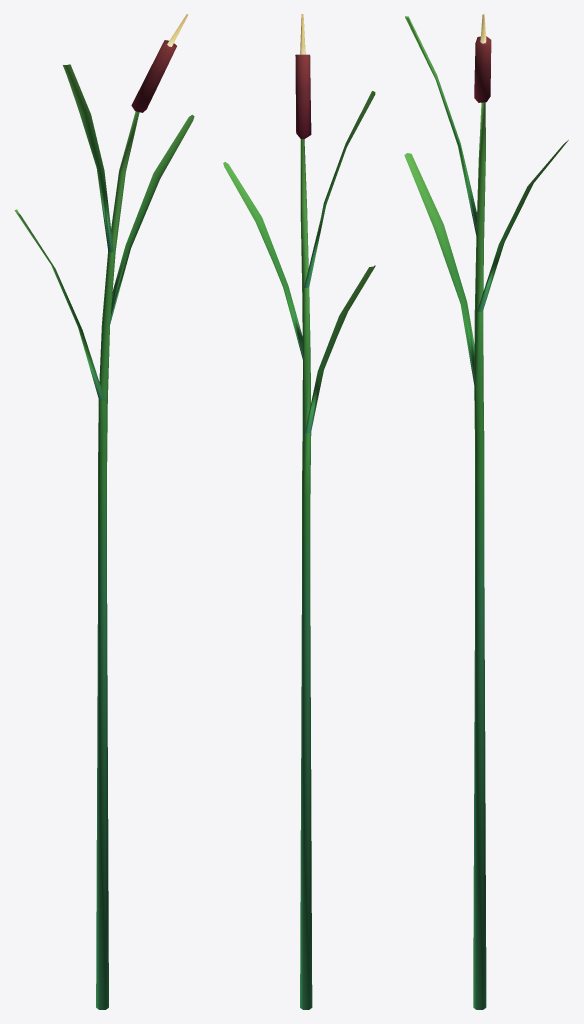
The model's file is cattail-2.fbx.
The picture shows the model from 3 angles, left to right: view 1: azimuth 30°, elevation 25°; view 2: azimuth 150°, elevation 25°; view 3: azimuth 330°, elevation 25°; orthographic projection. The views are drawn at different scales.
Visible parts, largest first — view 1: cattail-2; view 2: cattail-2; view 3: cattail-2.
Boxes of the visible parts, bbox=[...] form: cattail-2: bbox=[14, 14, 194, 1009]; cattail-2: bbox=[223, 14, 375, 1009]; cattail-2: bbox=[404, 14, 568, 1009].
Size of the model in its own units: 20.64 by 118 by 10.68.
